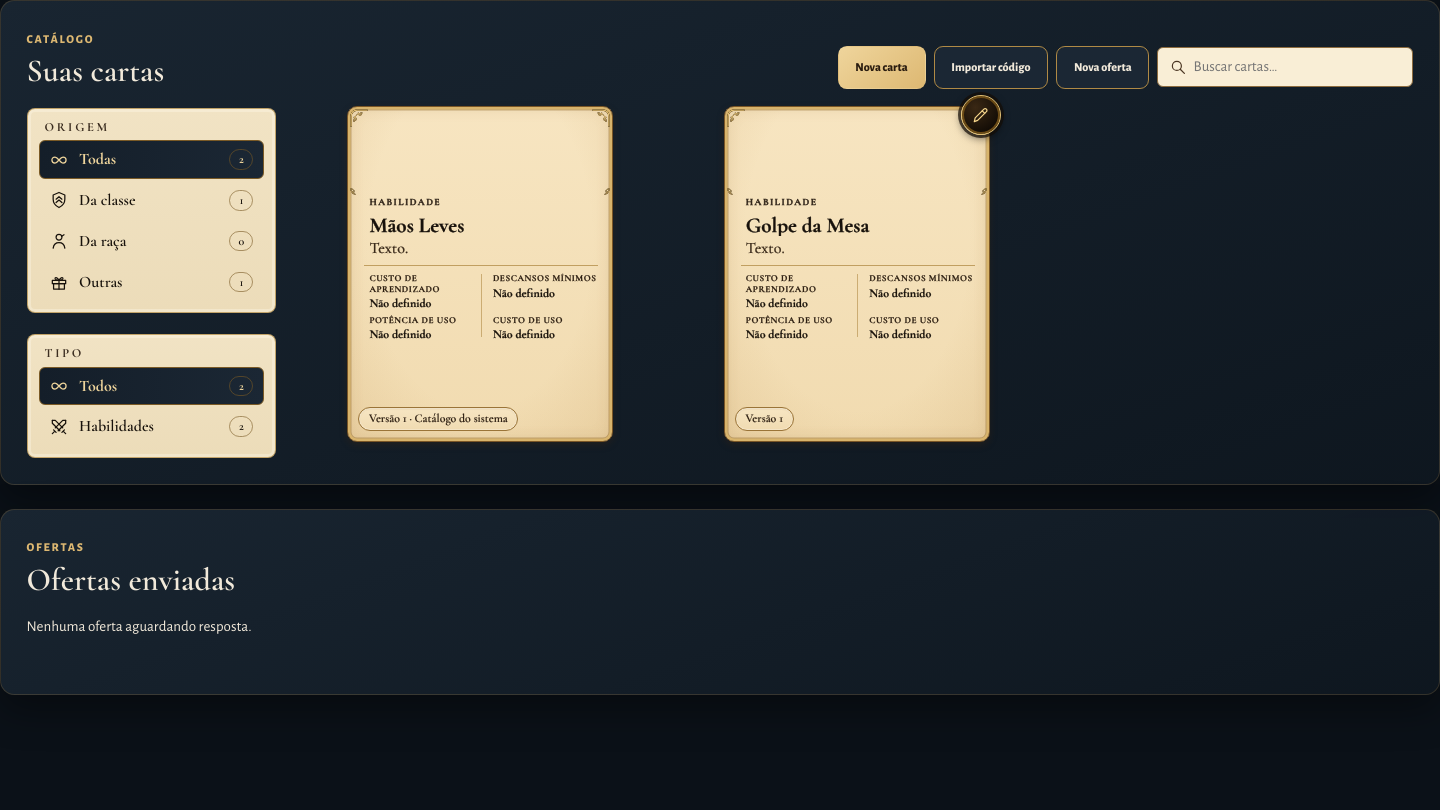
it: Cartas de classe, arquétipo e raça (7.6) › a biblioteca não oferece editar as cartas do catálogo do sistema (cartas-do-catalogo-somente-leitura 4.1)
The width and height of the screenshot is (1440, 810).
Expected: the button named "Editar Golpe da Mesa" is shown, [961,95,1001,135]
Click the button with aria-label "Habilidade: Mãos Leves" at {"x": 480, "y": 274}, box [347,106,613,442]
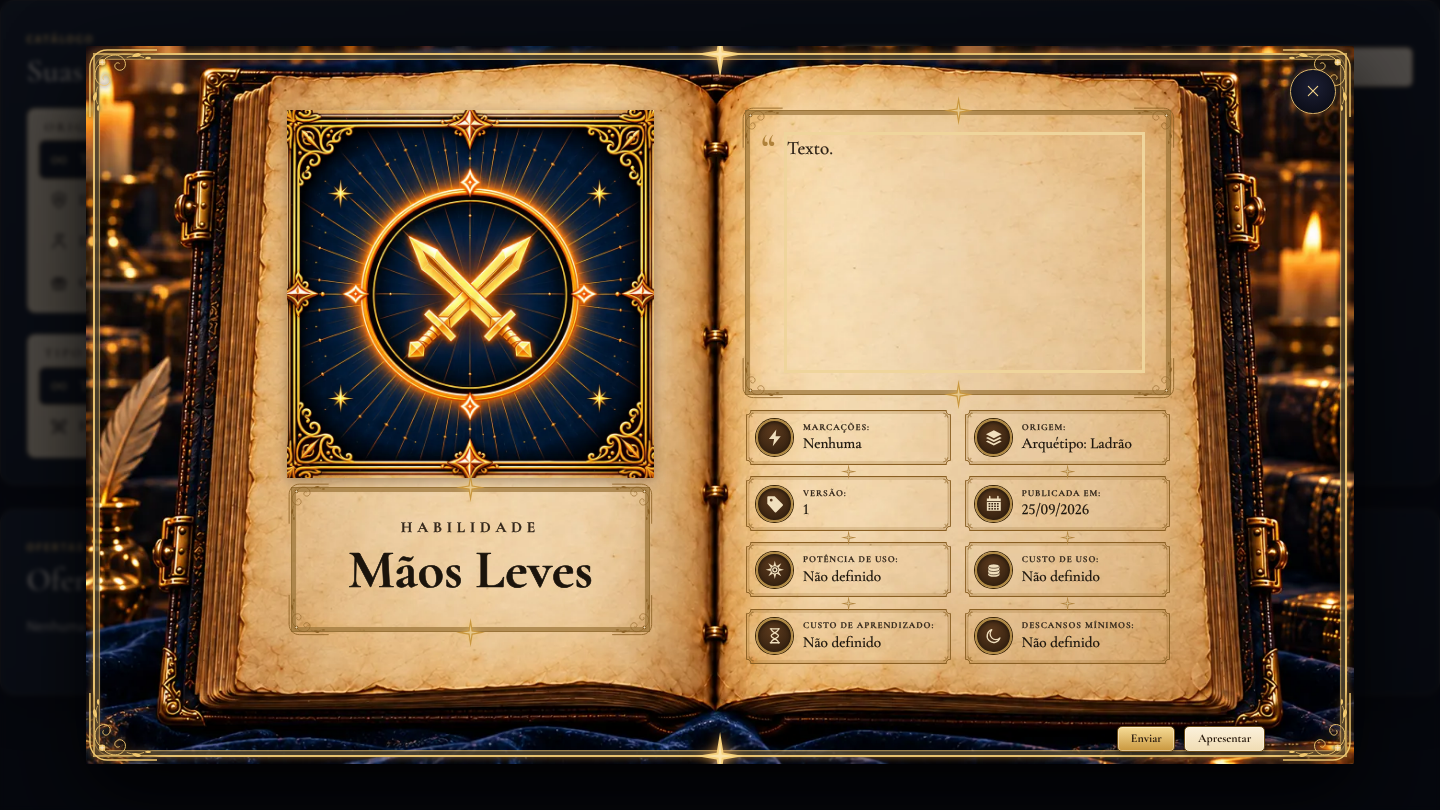
Now the text "Arquétipo: Ladrão" is shown, box [1022,434,1132,452]
Now the button "Enviar" is shown, box [1117,726,1176,752]
